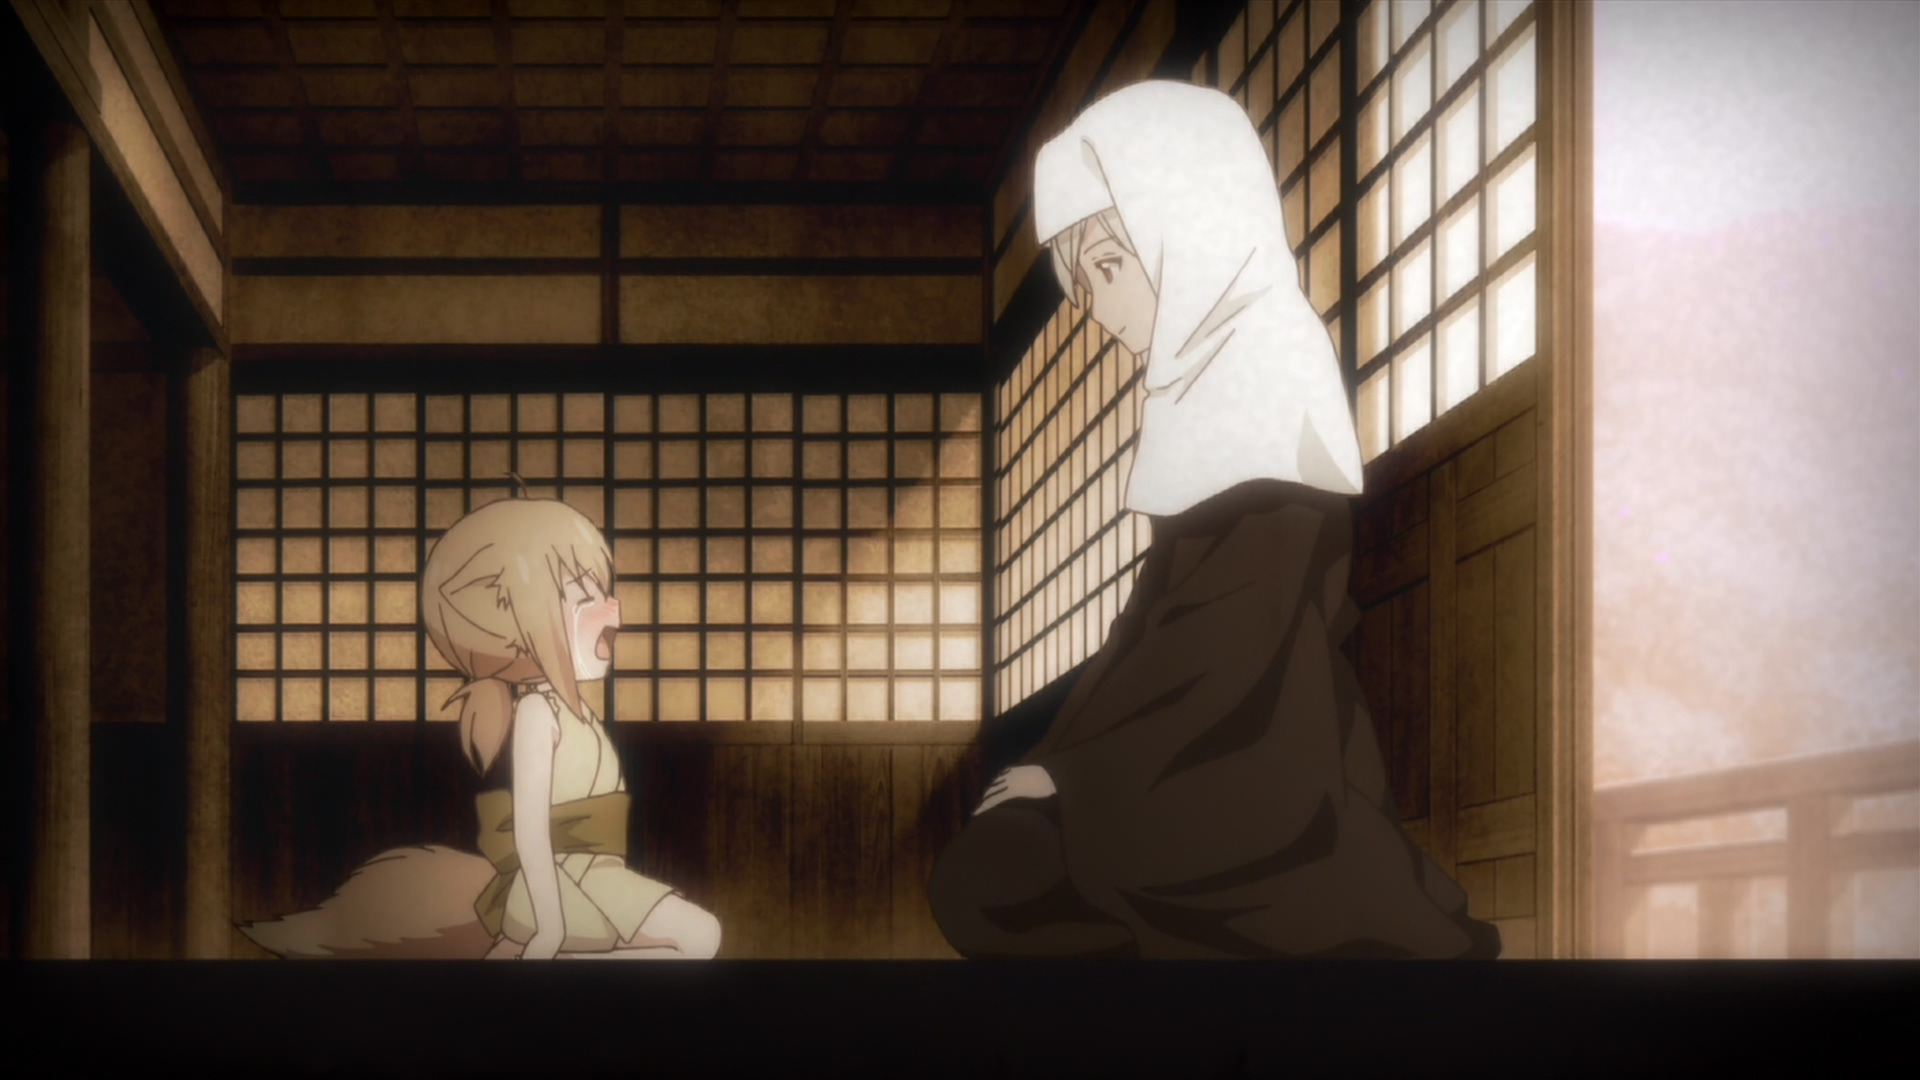八百比丘尼: (927, 80, 1499, 957)
柚: (240, 468, 724, 961)
